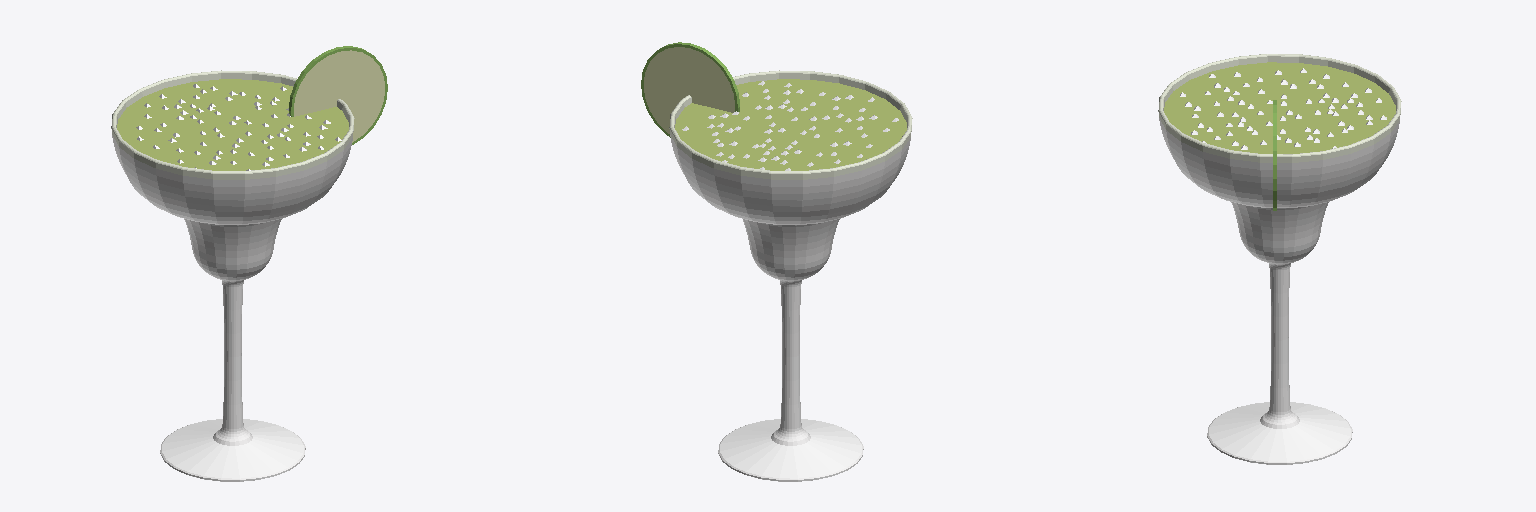
File: MixDrink2.obj
3 views of the same model, side by side, from view 1: azimuth 30°, elevation 25°; view 2: azimuth 150°, elevation 25°; view 3: azimuth 270°, elevation 25° (orthographic).
Parts seen in each view (by area): view 1: Mesh13 Marquerita1 Marquertita1 Model, Mesh14 Component_6_1 Marquertita1 Model; view 2: Mesh13 Marquerita1 Marquertita1 Model, Mesh14 Component_6_1 Marquertita1 Model; view 3: Mesh13 Marquerita1 Marquertita1 Model.
Boxes of the visible parts, x1=… form: Mesh13 Marquerita1 Marquertita1 Model: x1=111, y1=70, x2=354, y2=481; Mesh14 Component_6_1 Marquertita1 Model: x1=289, y1=46, x2=387, y2=144; Mesh13 Marquerita1 Marquertita1 Model: x1=669, y1=70, x2=912, y2=481; Mesh14 Component_6_1 Marquertita1 Model: x1=641, y1=42, x2=739, y2=137; Mesh13 Marquerita1 Marquertita1 Model: x1=1158, y1=54, x2=1401, y2=464.
Bounding box in the file's own units: 0.147 × 0.2083 × 0.1206.